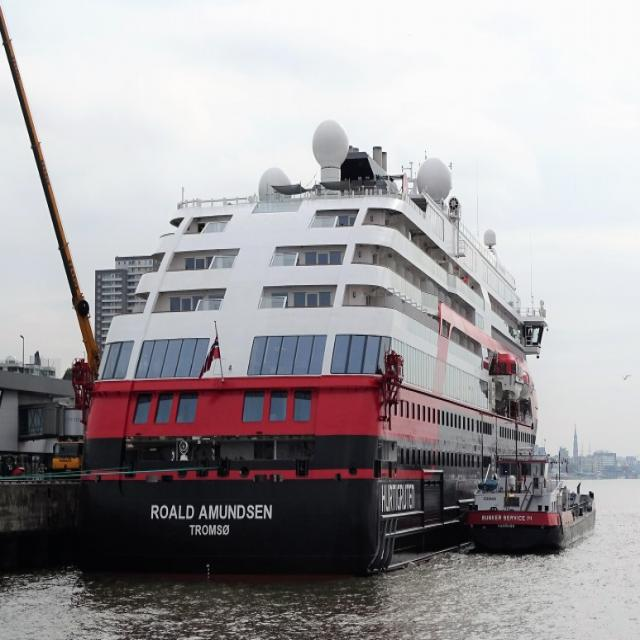cruises: (77, 114, 558, 602)
